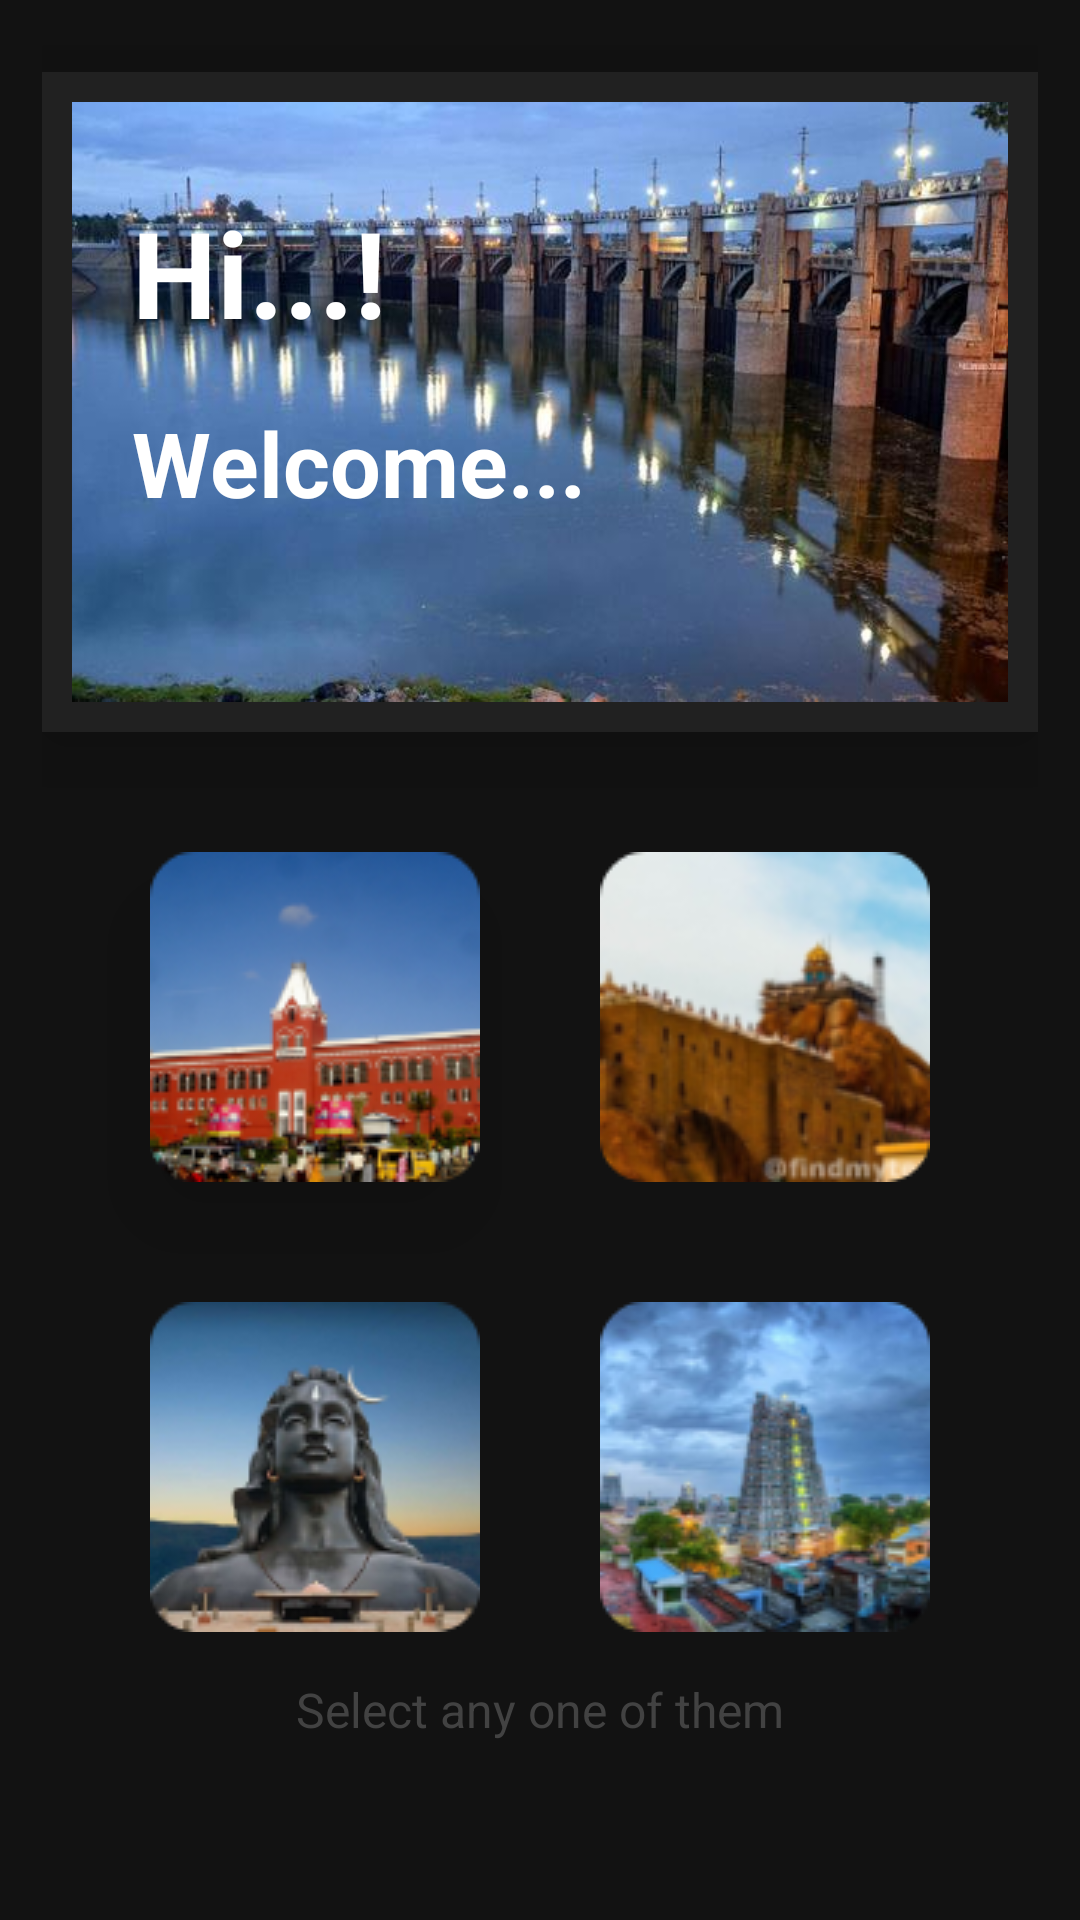

Where icons sit on this 1080 x 1920 app screen, as box(x1, y1, x2, y2):
chennai: box(150, 852, 480, 1182)
coimbatore: box(150, 1302, 480, 1632)
madurai: box(600, 1302, 930, 1632)
trichy: box(600, 852, 930, 1182)
